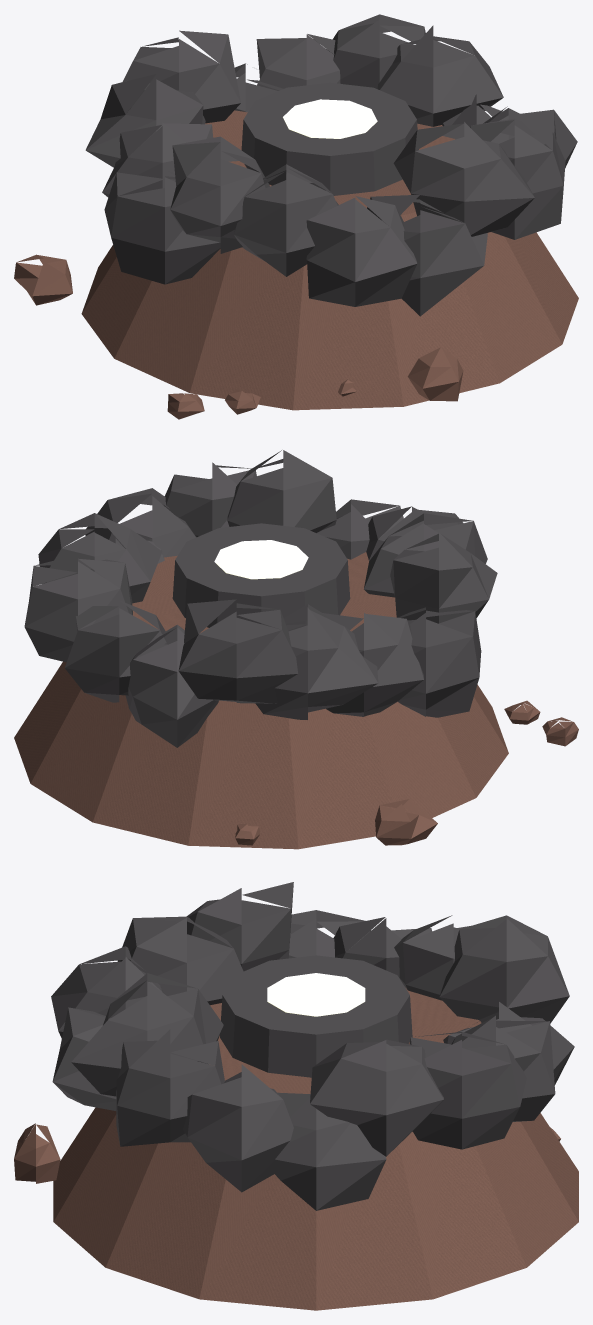
The model's file is spatte.glb.
3 renders of one model, top to bottom at view 1: azimuth 30°, elevation 25°; view 2: azimuth 150°, elevation 25°; view 3: azimuth 270°, elevation 25°, orthographic. The views are drawn at different scales.
Visible parts, largest first — view 1: volcano-and-lava-fields-spatter-cone; view 2: volcano-and-lava-fields-spatter-cone; view 3: volcano-and-lava-fields-spatter-cone.
Part boxes in pixels (x1,y1,x2,y2): volcano-and-lava-fields-spatter-cone: (14, 14, 578, 419); volcano-and-lava-fields-spatter-cone: (14, 450, 578, 849); volcano-and-lava-fields-spatter-cone: (14, 882, 578, 1310).
Size of the model in its own units: 2.42 by 1.16 by 2.41.
Materials: 4 (1 with a texture image).
